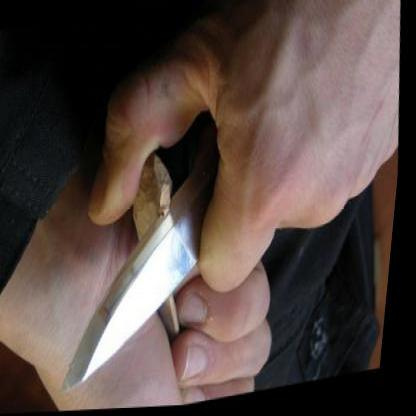knife: (41, 107, 276, 404)
